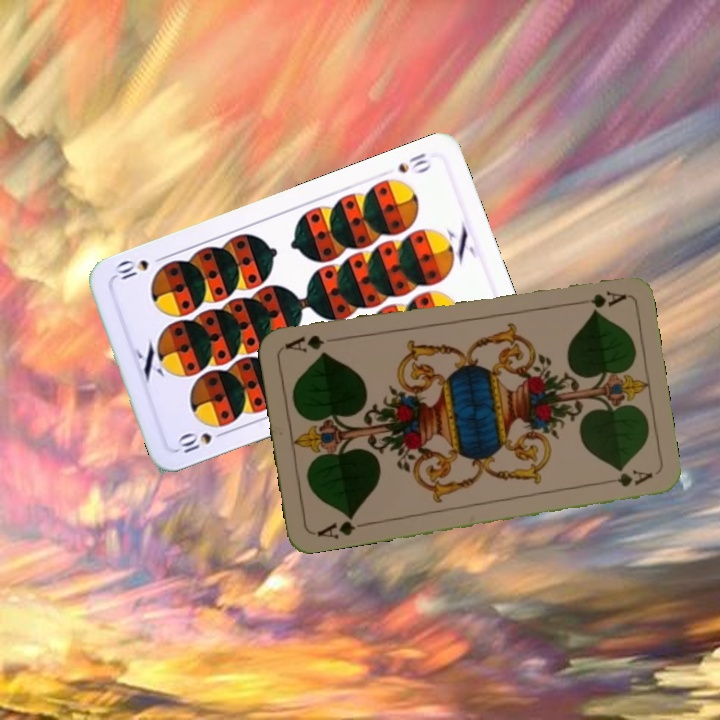GA: (313, 511, 370, 541), (569, 286, 628, 312)
S10: (173, 426, 230, 456), (394, 148, 434, 176)
